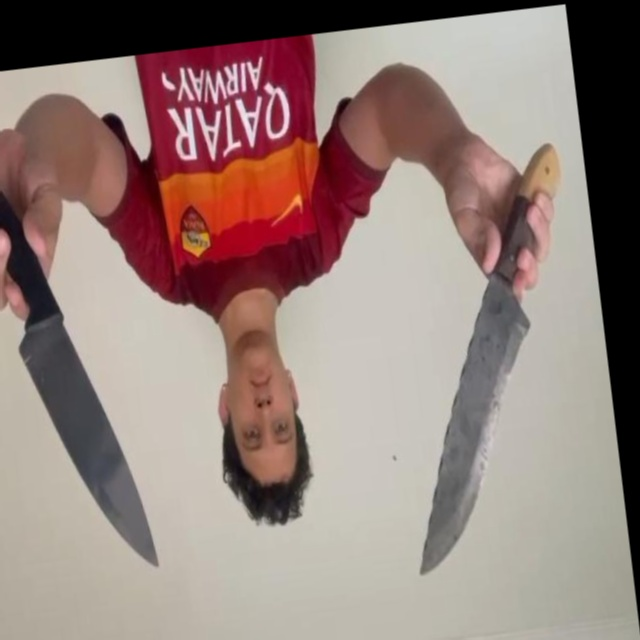Sharp-Object: (387, 287, 560, 578), (18, 326, 160, 585)
